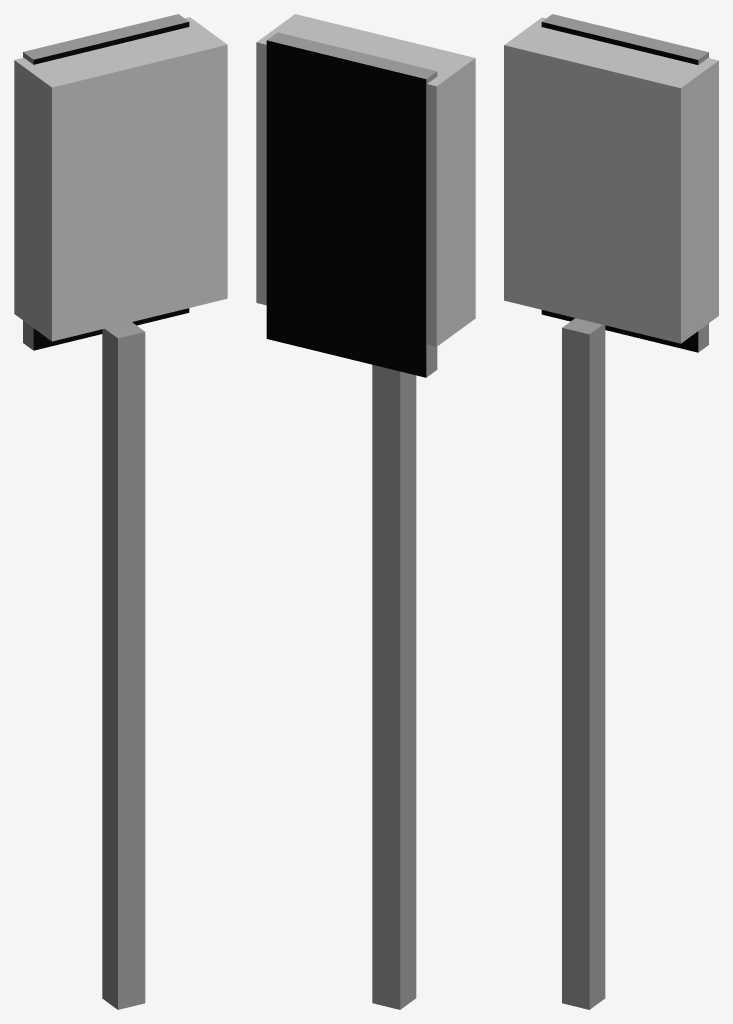
The model's file is pkSign.obj.
3 views of the same model, side by side, from view 1: azimuth 30°, elevation 25°; view 2: azimuth 150°, elevation 25°; view 3: azimuth 330°, elevation 25° (orthographic). The views are drawn at different scales.
Parts seen in each view (by area): view 1: Cube.001, Cube.002, Cube_Cube.003; view 2: Cube_Cube.003, Cube.002, Cube.001; view 3: Cube.001, Cube.002, Cube_Cube.003.
Boxes of the visible parts, left/top/right/bottom form: Cube.001: left=14, top=17, right=227, bottom=341; Cube.002: left=102, top=322, right=145, bottom=1009; Cube_Cube.003: left=23, top=14, right=189, bottom=350; Cube_Cube.003: left=266, top=32, right=437, bottom=377; Cube.002: left=372, top=364, right=416, bottom=1009; Cube.001: left=256, top=14, right=475, bottom=346; Cube.001: left=504, top=17, right=718, bottom=343; Cube.002: left=562, top=318, right=605, bottom=1009; Cube_Cube.003: left=541, top=14, right=708, bottom=352.
Bounding box in the file's own units: 1.27 × 6.48 × 0.5335.
